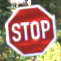stopsign: (5, 5, 57, 57)
